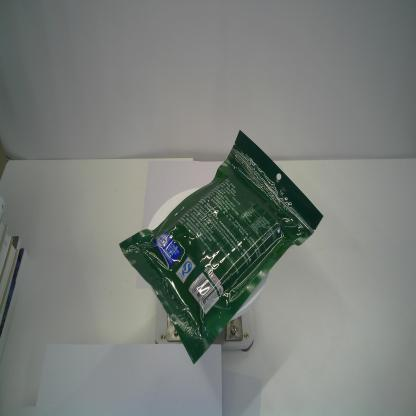Dried Food: (117, 125, 325, 366)
